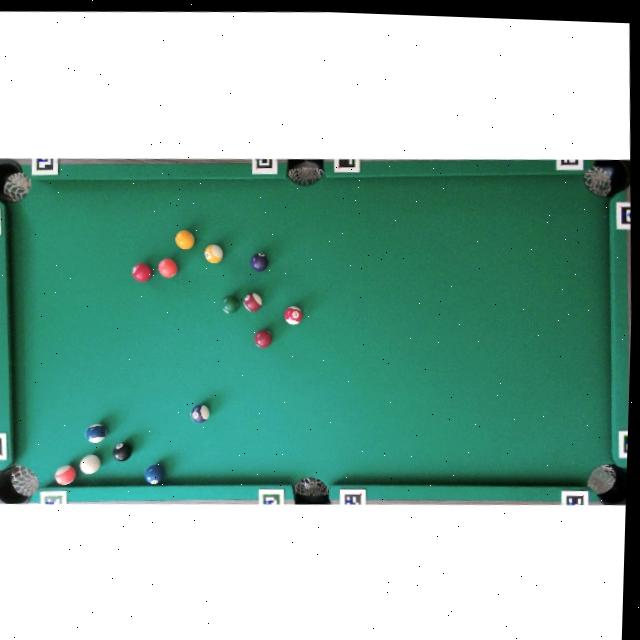cue ball: (79, 453, 102, 475)
other: (52, 463, 78, 486), (83, 422, 107, 444), (130, 261, 152, 284), (111, 440, 133, 462), (174, 228, 195, 251), (189, 402, 210, 424), (143, 463, 164, 485), (248, 251, 269, 273), (157, 257, 179, 278), (203, 243, 224, 265), (242, 292, 263, 313), (283, 305, 303, 326), (253, 328, 273, 348), (220, 294, 240, 314)
